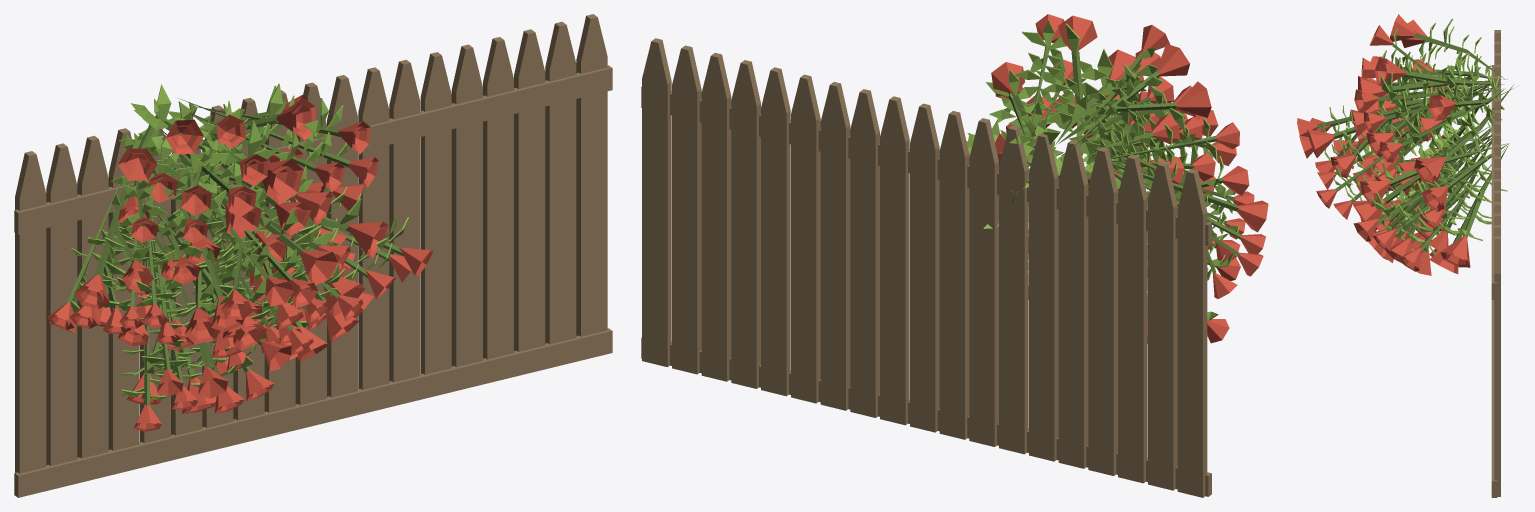
Rendered from SAFAYAN_ROSEBUSH_01.gltf.
3 views of the same model, side by side, from view 1: azimuth 30°, elevation 25°; view 2: azimuth 150°, elevation 25°; view 3: azimuth 270°, elevation 25° (orthographic). The views are drawn at different scales.
Visible parts, largest first — view 1: node-0; view 2: node-0; view 3: node-0.
Boxes of the visible parts, x1=… form: node-0: x1=14, y1=14, x2=612, y2=497; node-0: x1=641, y1=14, x2=1268, y2=497; node-0: x1=1297, y1=14, x2=1514, y2=497.
Size of the model in its own units: 12.28 by 7.85 by 5.23.
